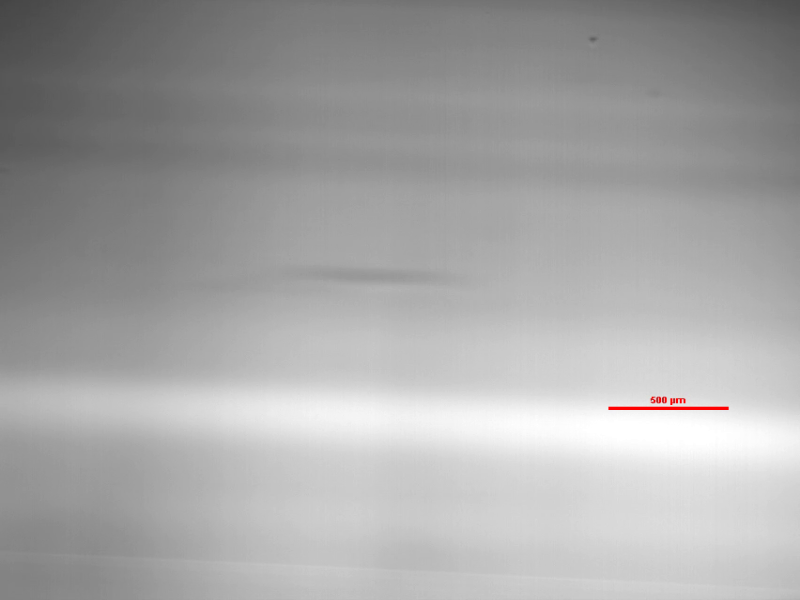fiber: (240, 259, 477, 311)
size: (608, 394, 729, 419)
